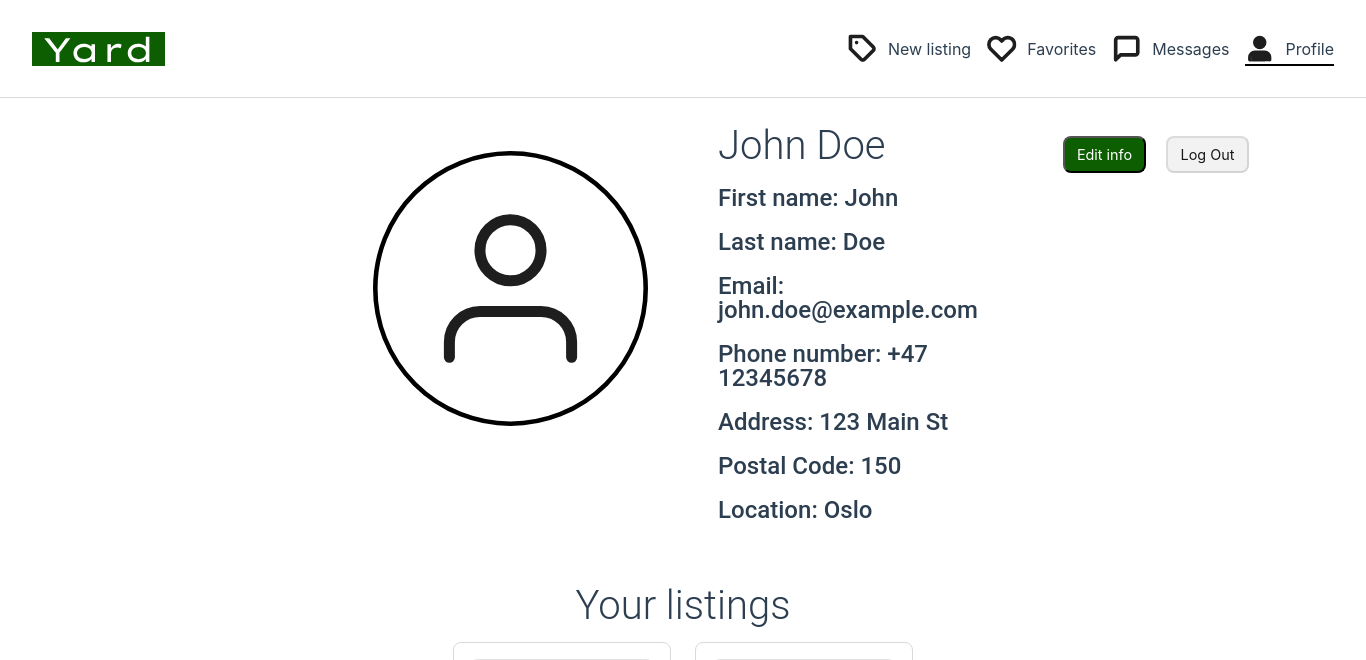
Test: Profile Page › shows logout confirmation when logout button is clicked
The image size is (1366, 660).
Click the button with class "logout-button" at (1208, 155), box x1=1166 y1=136 x2=1249 y2=173
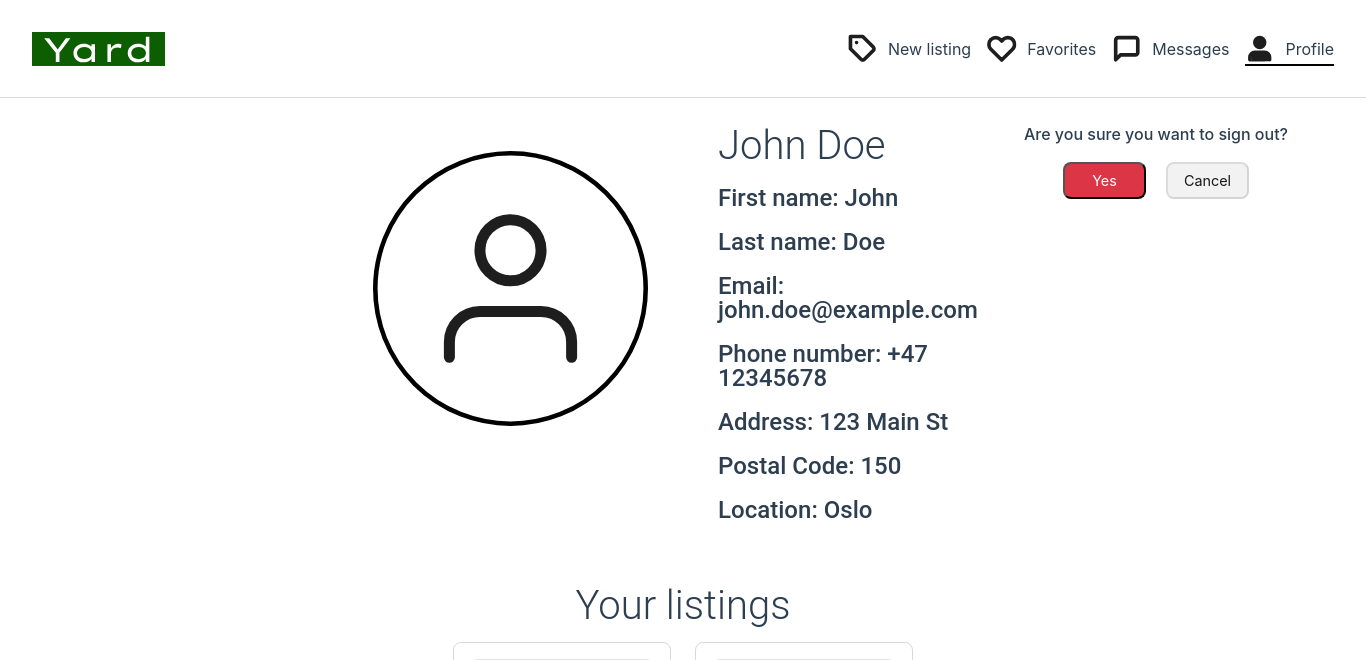
Expected: the text "Are you sure you want to sign out?" is shown, x1=1024 y1=126 x2=1288 y2=142
Expected: the button with class "logout" is shown, x1=1063 y1=162 x2=1146 y2=199
Expected: the button with class "cancel-button" is shown, x1=1166 y1=162 x2=1249 y2=199
